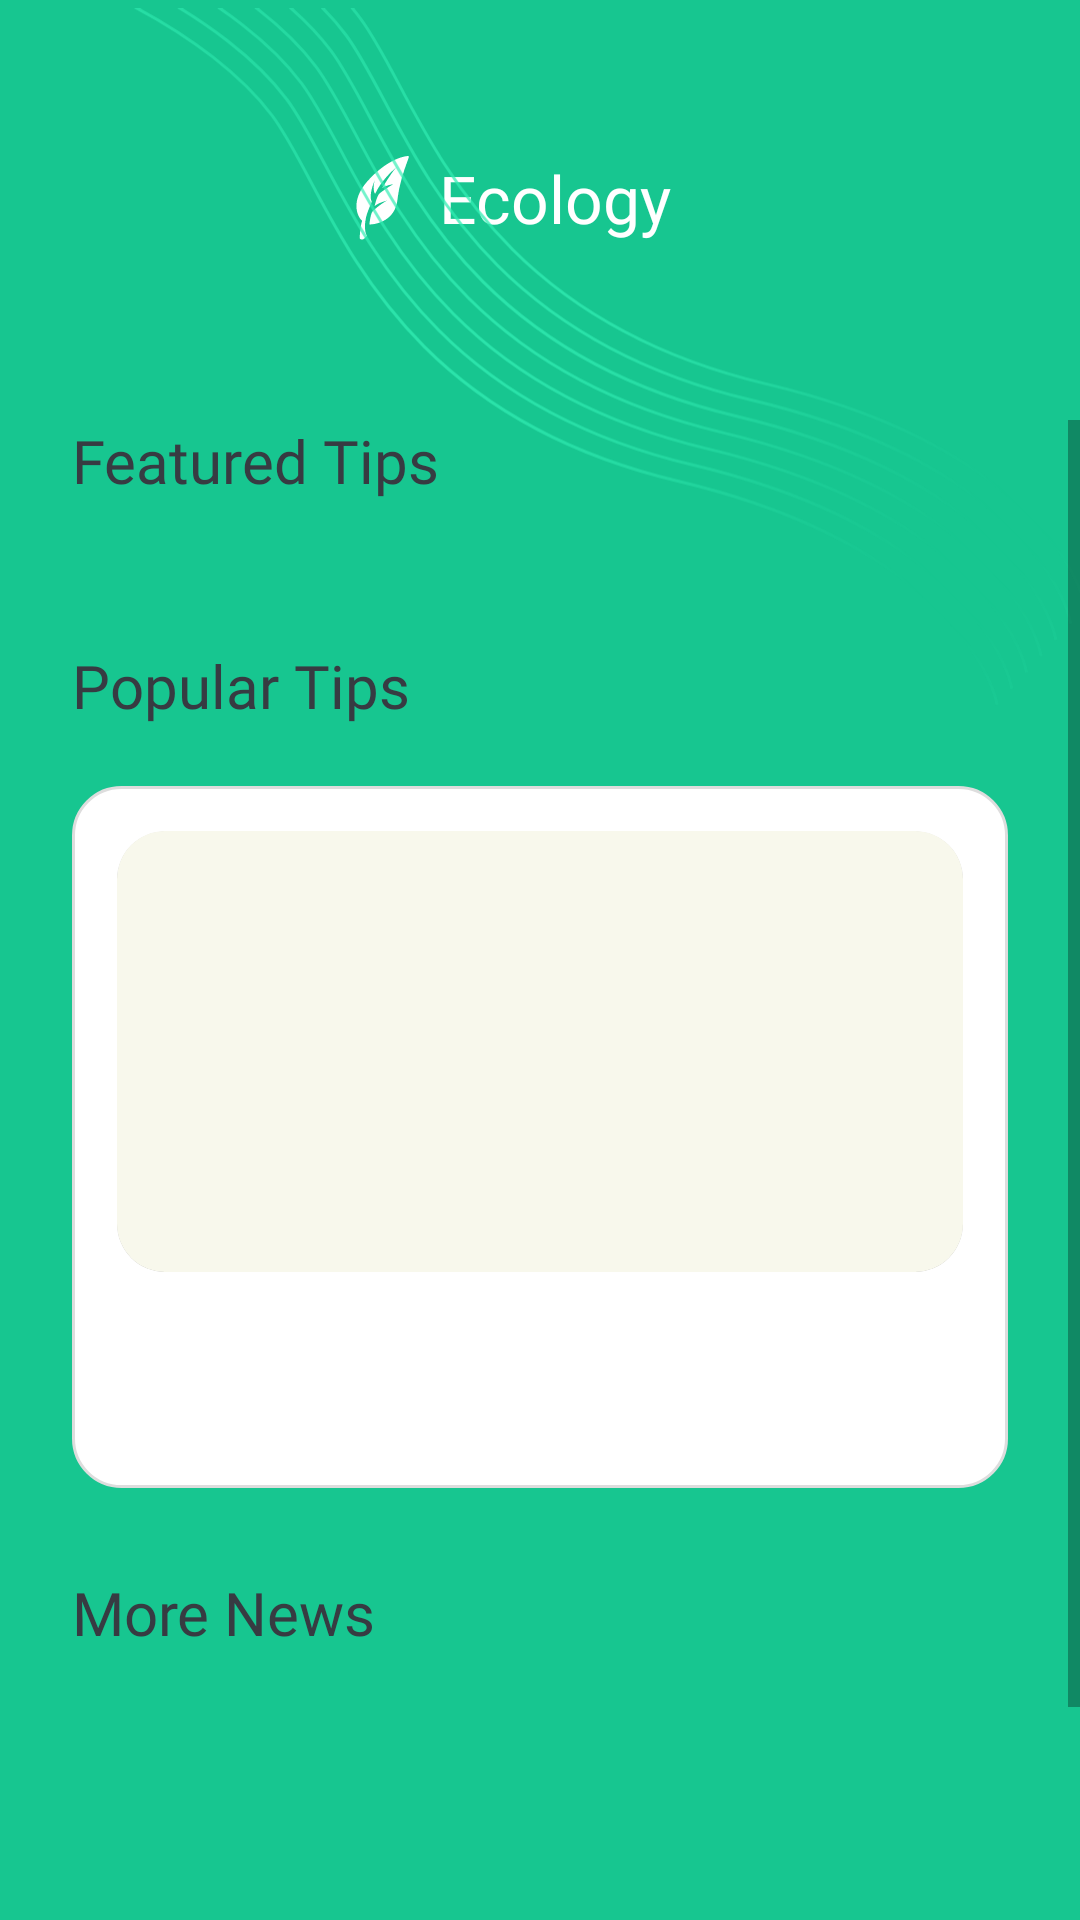

Icon click points for this 1080 × 1920 phone screenshot, format [x,y]:
leaf: [382,198]
